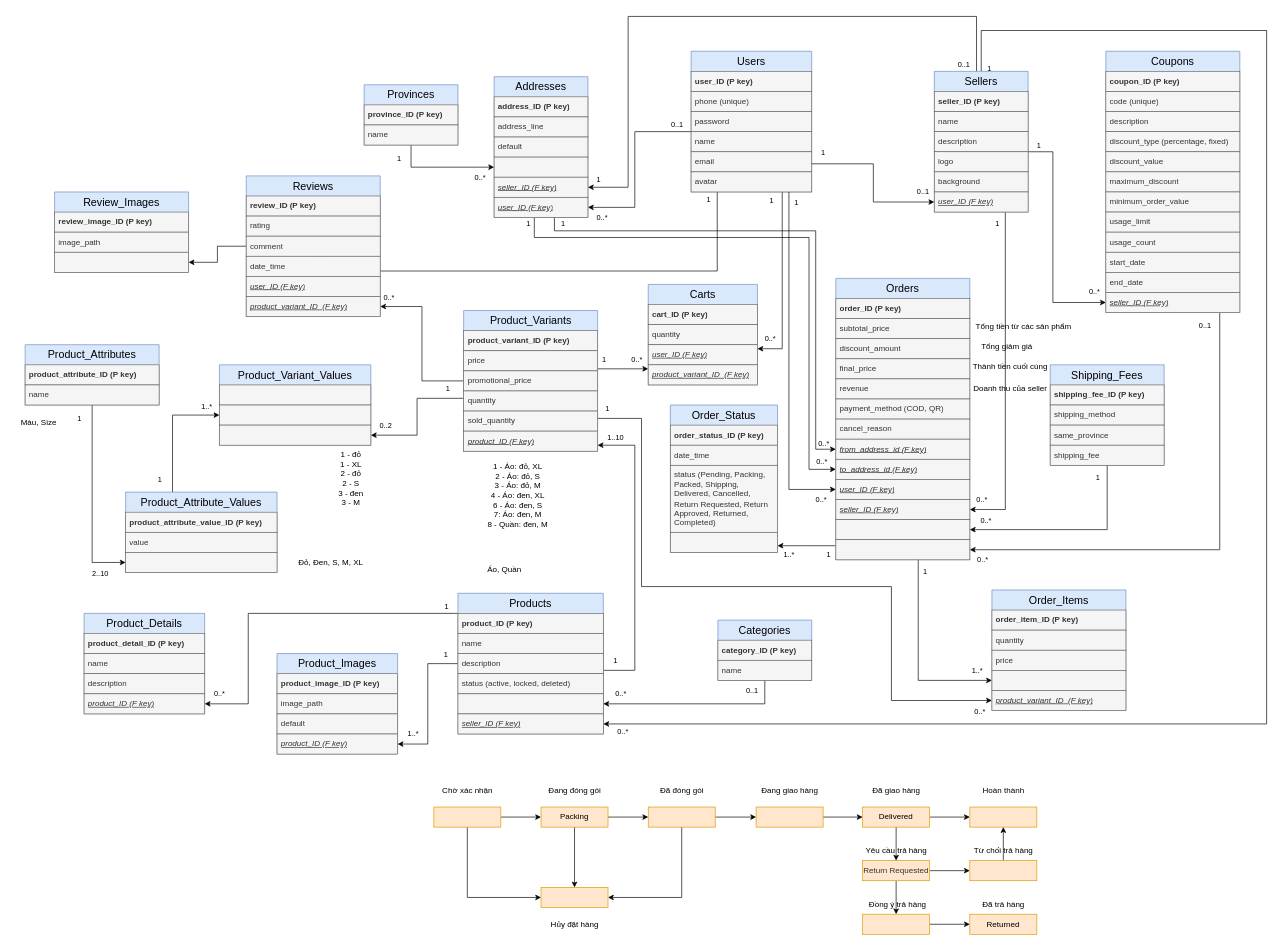
Some shapes in this 1284 by 946 pixel diagram are drawn without their labels. Each missing label, with the centre of its shape:
"category_ID (F key)" goes at (530,703).
"Cenceled" goes at (574,897).
"Completed" goes at (1003,816).
"coupon_ID (F key)" goes at (902,549).
"order_ID (F key)" goes at (1058,680).
"orders_ID (F key)" goes at (724,542).
"Packed" goes at (681,816).
"Pending" goes at (467,816).
"product_attribute_ID (F key)" goes at (201,562).
"product_attribute_value_ID (F key)" goes at (295,414).
"product_variant_ID" goes at (295,434).
"product_variant_value_ID (P key)" goes at (295,394).
"province_ID (F key)" goes at (540,166).
"Return Approved" goes at (896,924).
"Return Rejected" goes at (1003,870).
"review_ID (F key)" goes at (121,262).
"Shipping" goes at (789,816).
"shipping_fee_ID (F key)" goes at (902,529).
